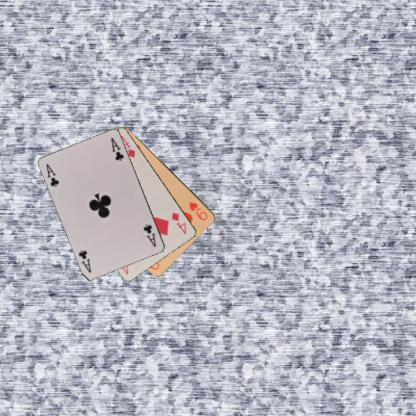4d: (169, 210, 189, 236)
9h: (186, 199, 209, 222)
Ac: (141, 221, 158, 249), (44, 162, 61, 188)
